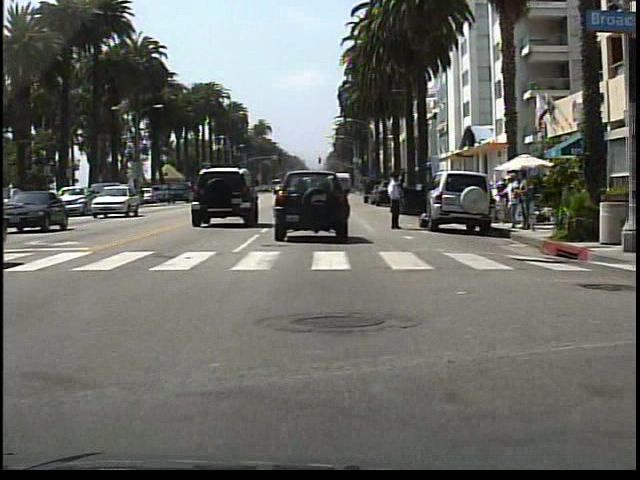person: (381, 169, 408, 233), (513, 168, 534, 234), (500, 166, 520, 235)
